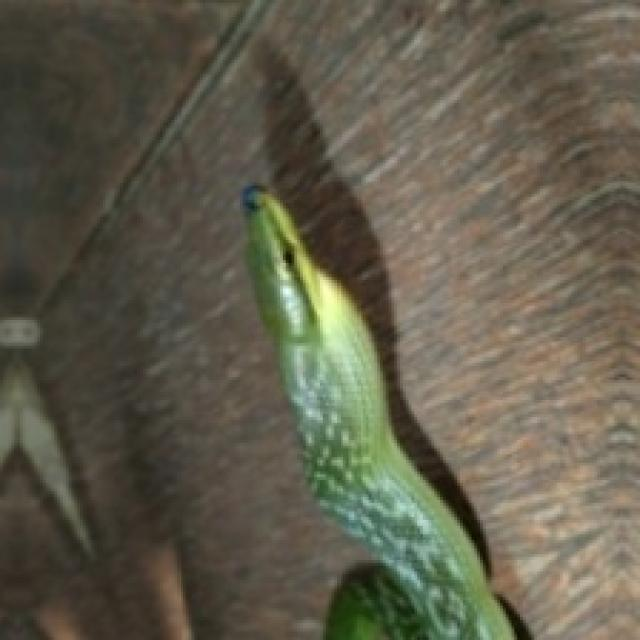red-tailed green ratsnake: (243, 186, 529, 637)
